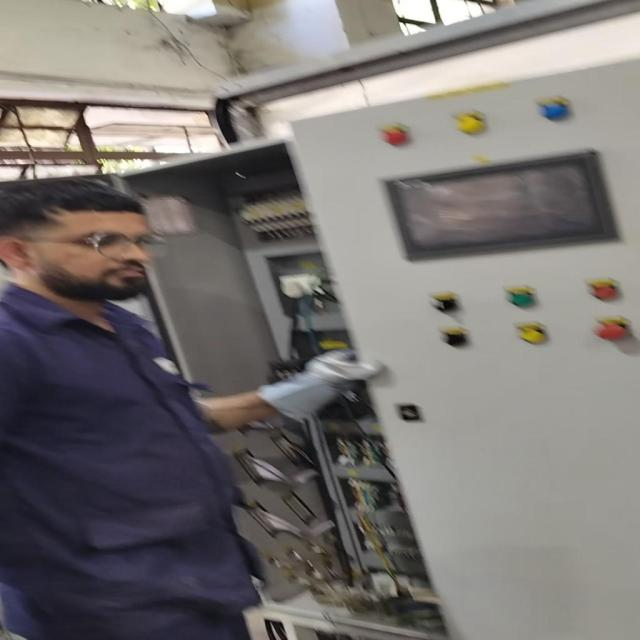Gloves-Detection: (254, 342, 373, 422)
